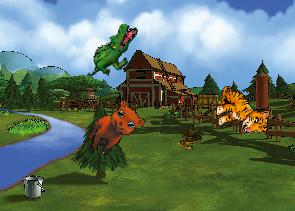bear: (83, 94, 149, 165)
crocodile: (88, 17, 139, 84)
tiger: (213, 85, 271, 135)
